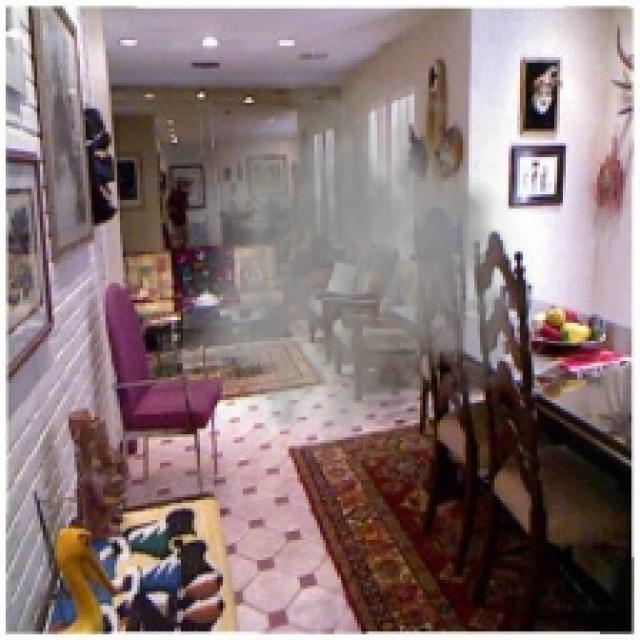Smoke: (182, 57, 548, 460)
